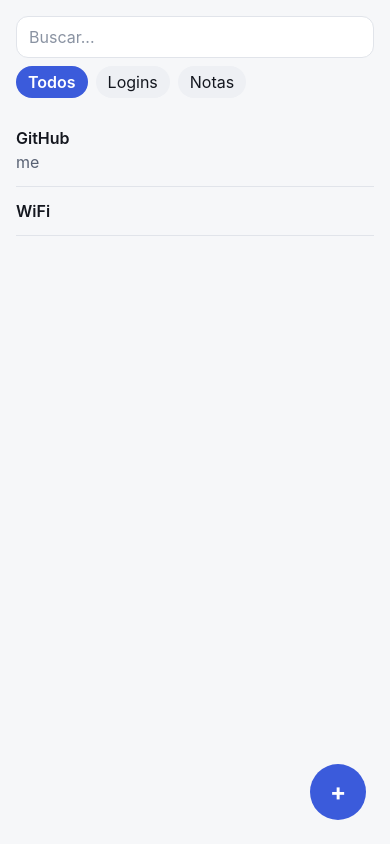
Test: VaultList › filters by note type
Click the button "Notas" at (212, 82), box [178,66,246,98]
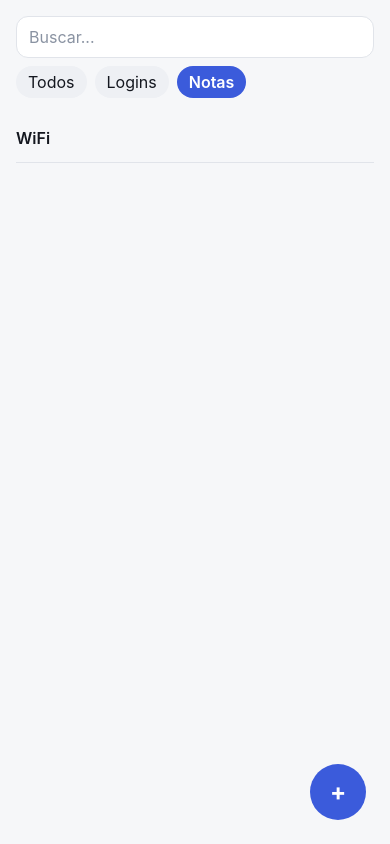
expect the text "WiFi" is shown: met, box [16,128,50,148]
expect the text "GitHub" is gone: met
